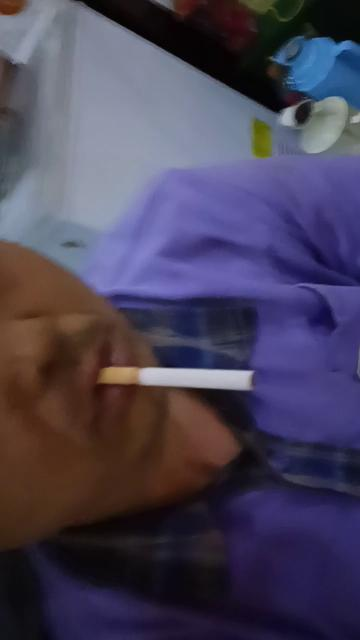Cigarette: (97, 366, 257, 392)
